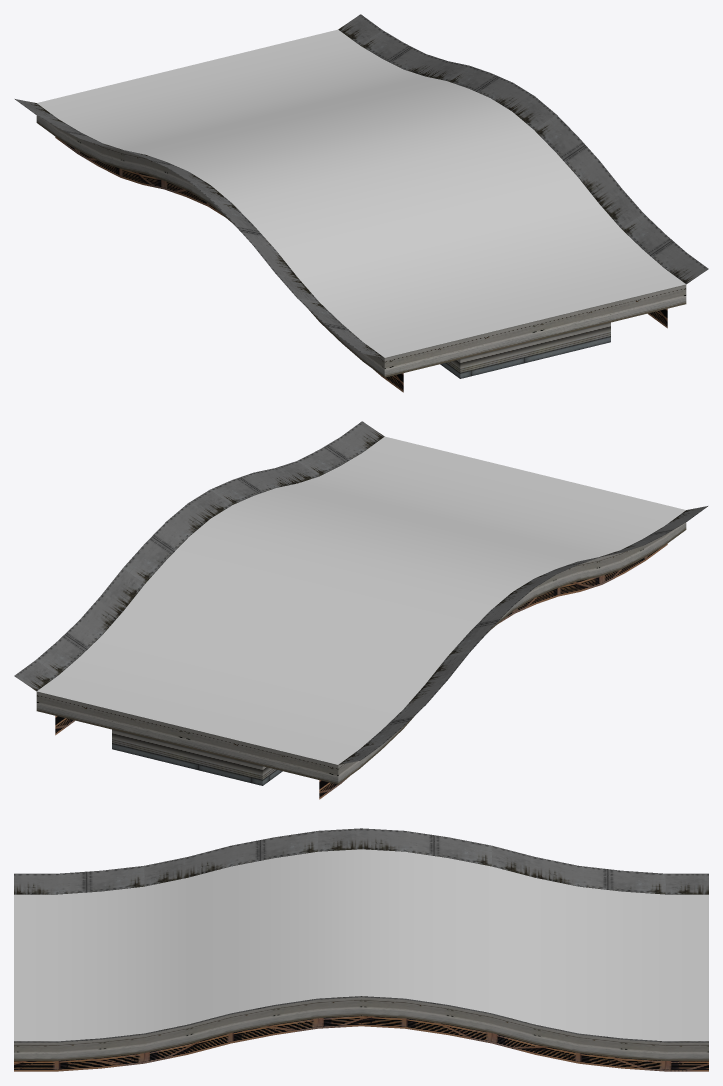
File: StrHill02.fbx
3 renders of one model, top to bottom at view 1: azimuth 30°, elevation 25°; view 2: azimuth 150°, elevation 25°; view 3: azimuth 270°, elevation 25°, orthographic.
Parts seen in each view (by area): view 1: Empty_Mesh; view 2: Empty_Mesh; view 3: Empty_Mesh.
Part boxes in pixels (<box>): Empty_Mesh: <box>15,14,708,392</box>; Empty_Mesh: <box>14,421,707,799</box>; Empty_Mesh: <box>14,828,708,1071</box>.
Bounding box in the file's own units: 18.4 × 4.8 × 32.
